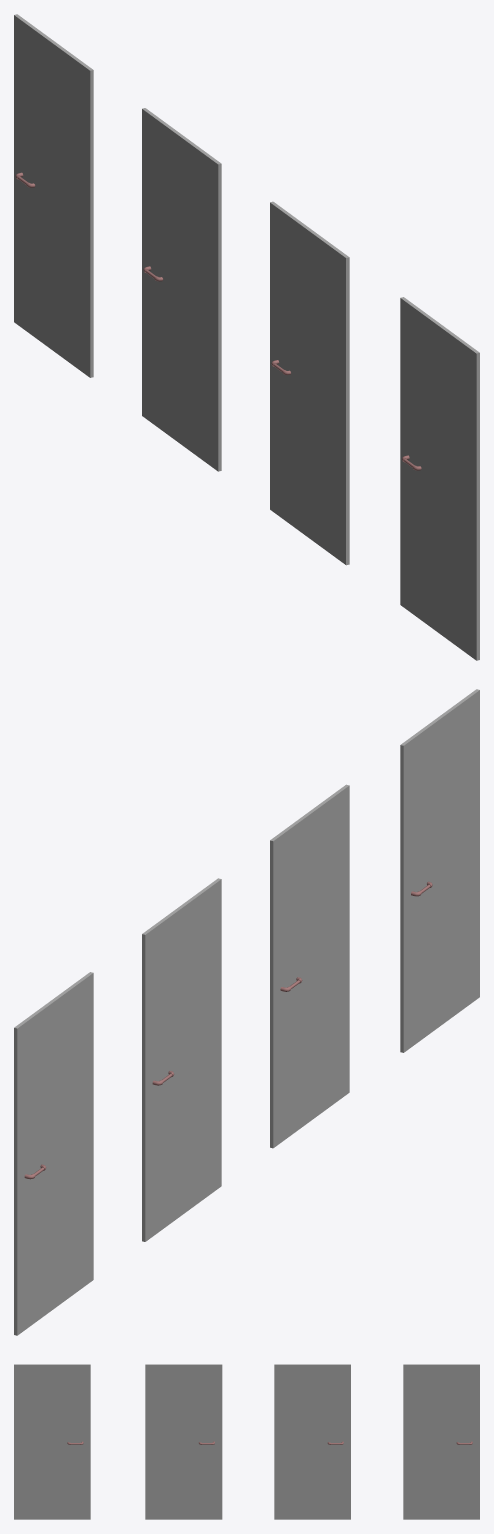
File: Hea_Ba_Toilet_Doors.fbx
The picture shows the model from 3 angles, top to bottom: view 1: azimuth 30°, elevation 25°; view 2: azimuth 150°, elevation 25°; view 3: azimuth 270°, elevation 25°; orthographic projection. The views are drawn at different scales.
Parts seen in each view (by area): view 1: Toilet_Door, Toilet_Door_I1, Toilet_Door_I2, Toilet_Door_I3; view 2: Toilet_Door, Toilet_Door_I1, Toilet_Door_I2, Toilet_Door_I3; view 3: Toilet_Door_I2, Toilet_Door, Toilet_Door_I1, Toilet_Door_I3.
Part boxes in pixels (<box>): Toilet_Door: <box>14,14,93,377</box>; Toilet_Door_I1: <box>142,108,221,471</box>; Toilet_Door_I2: <box>270,201,349,565</box>; Toilet_Door_I3: <box>400,297,479,660</box>; Toilet_Door: <box>14,972,93,1335</box>; Toilet_Door_I1: <box>142,878,221,1241</box>; Toilet_Door_I2: <box>270,784,349,1148</box>; Toilet_Door_I3: <box>400,689,479,1052</box>; Toilet_Door_I2: <box>145,1364,222,1519</box>; Toilet_Door: <box>403,1364,479,1519</box>; Toilet_Door_I1: <box>274,1364,350,1519</box>; Toilet_Door_I3: <box>14,1364,90,1519</box>.
Bounding box in the file's own units: 12.61 × 200 × 546.
